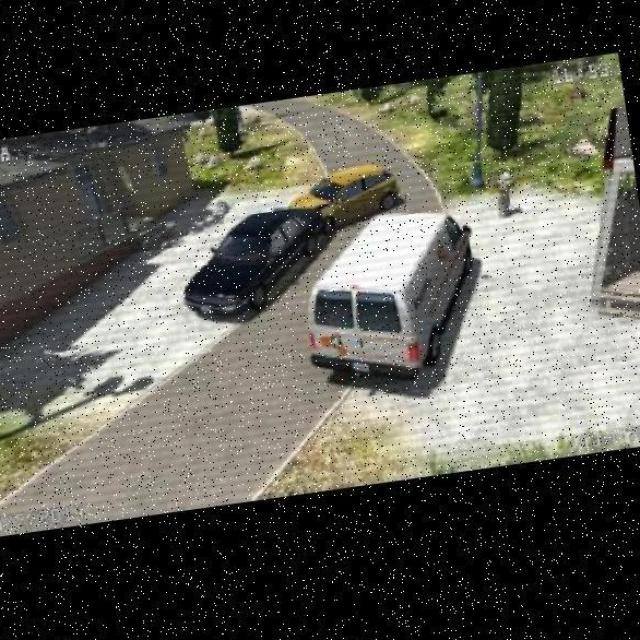accident: (174, 149, 408, 299)
